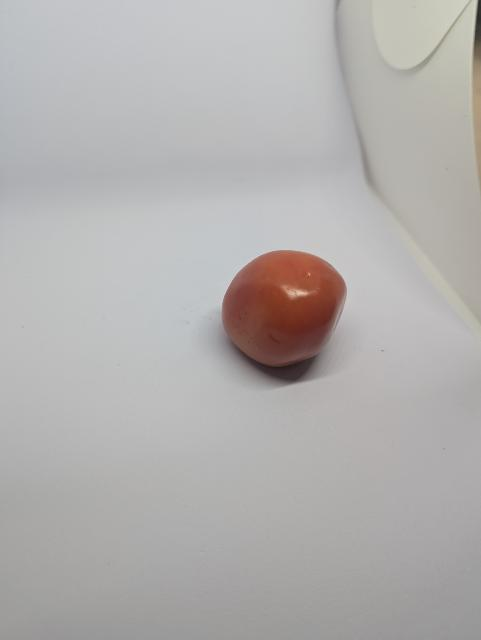red: (216, 244, 352, 378)
